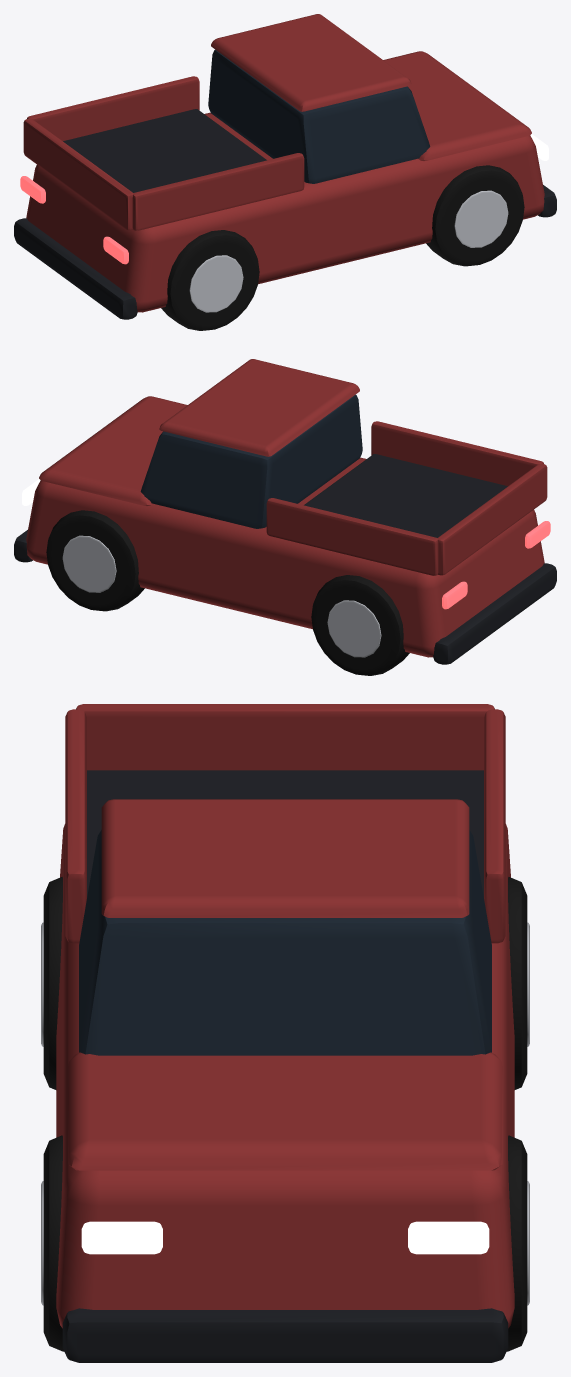
Rendered from pickup.glb.
3 views of the same model, one above another, from view 1: azimuth 30°, elevation 25°; view 2: azimuth 150°, elevation 25°; view 3: azimuth 270°, elevation 25° (orthographic). The views are drawn at different scales.
Parts seen in each view (by area): view 1: part-paint, part-glass, part-trim, part-tyre, part-chrome, part-taillight; view 2: part-paint, part-glass, part-trim, part-tyre, part-chrome, part-taillight; view 3: part-paint, part-glass, part-trim, part-tyre, headlight-1, headlight--1, part-chrome.
Part boxes in pixels (<box>): part-paint: <box>23,14,544,312</box>; part-glass: <box>208,49,430,183</box>; part-trim: <box>14,109,556,319</box>; part-tyre: <box>161,165,524,330</box>; part-chrome: <box>189,190,508,312</box>; part-taillight: <box>20,176,128,264</box>; part-paint: <box>26,359,547,657</box>; part-glass: <box>140,394,362,528</box>; part-trim: <box>14,454,556,664</box>; part-tyre: <box>46,510,409,675</box>; part-chrome: <box>62,535,381,657</box>; part-taillight: <box>442,521,550,609</box>; part-paint: <box>56,704,514,1328</box>; part-glass: <box>79,830,491,1055</box>; part-trim: <box>62,770,508,1362</box>; part-tyre: <box>43,877,527,1351</box>; headlight-1: <box>408,1221,489,1254</box>; headlight--1: <box>81,1221,162,1254</box>; part-chrome: <box>41,922,529,1305</box>.
Bounding box in the file's own units: 37.2 × 15.7 × 17.98.
